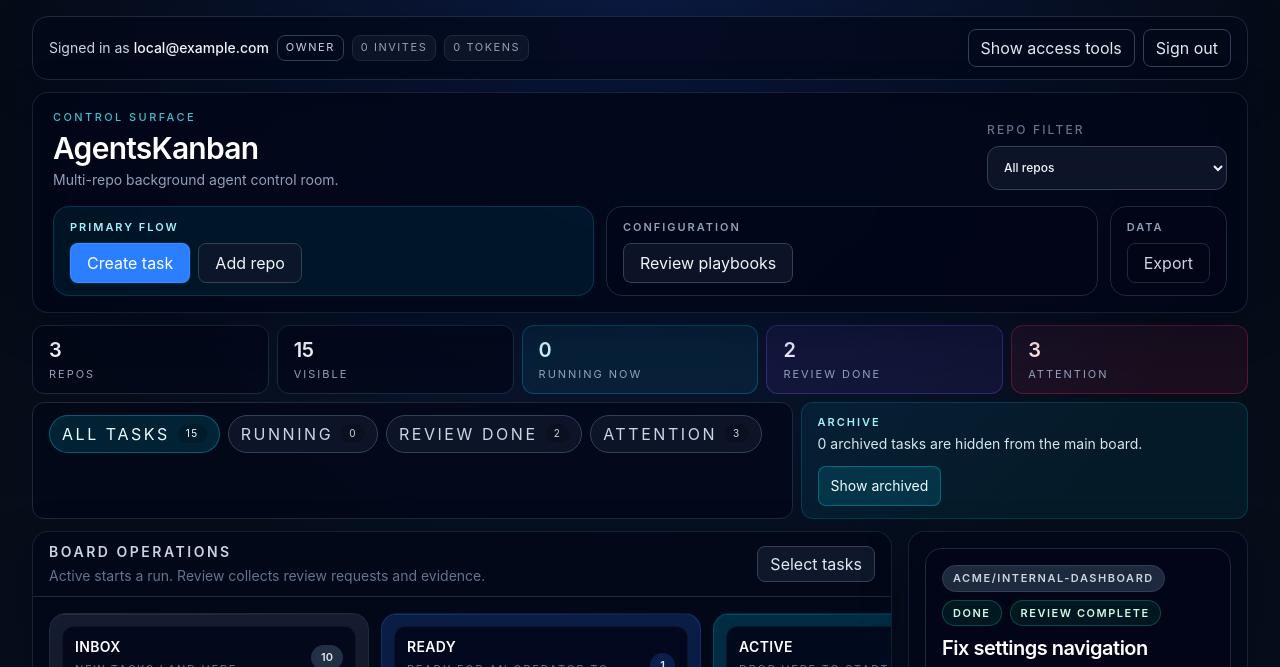
Test: App › updates repo preview adapter settings from the edit repo modal
This screenshot has width=1280, height=667.
Select "acme/site-marketing" in the dropdown labelled "Repo filter" at (1107, 168), box [987, 146, 1227, 190]
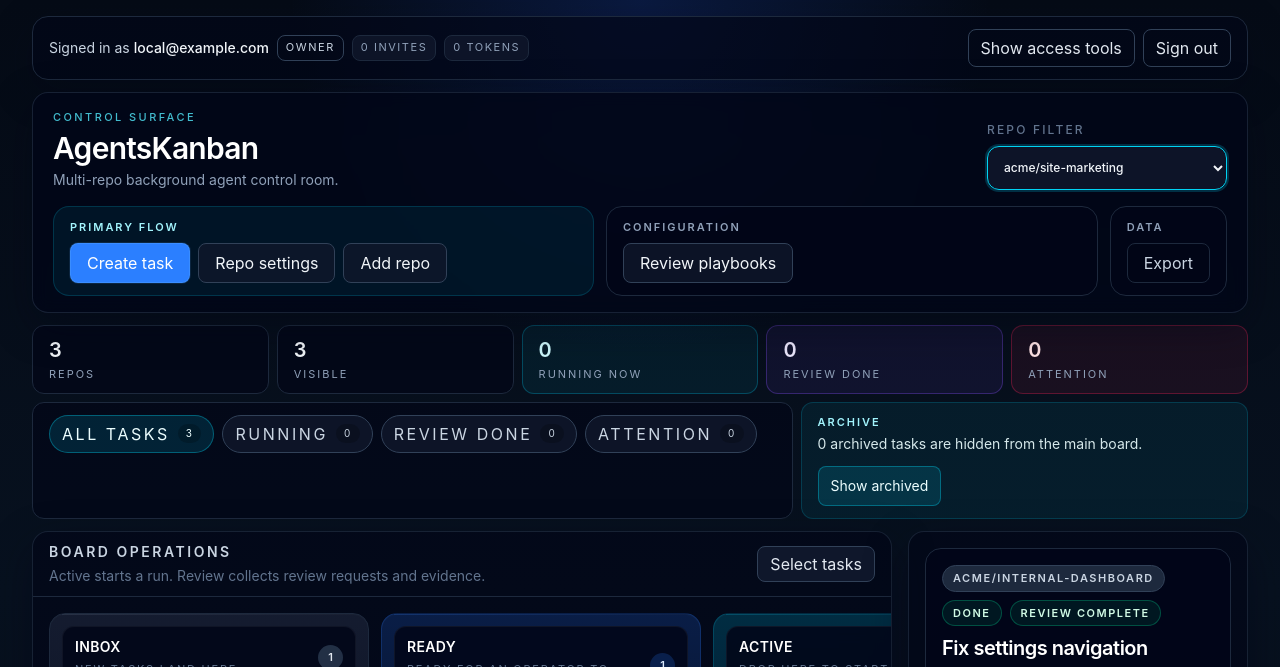
Click the button "Repo settings" at (267, 263), box [198, 243, 335, 283]
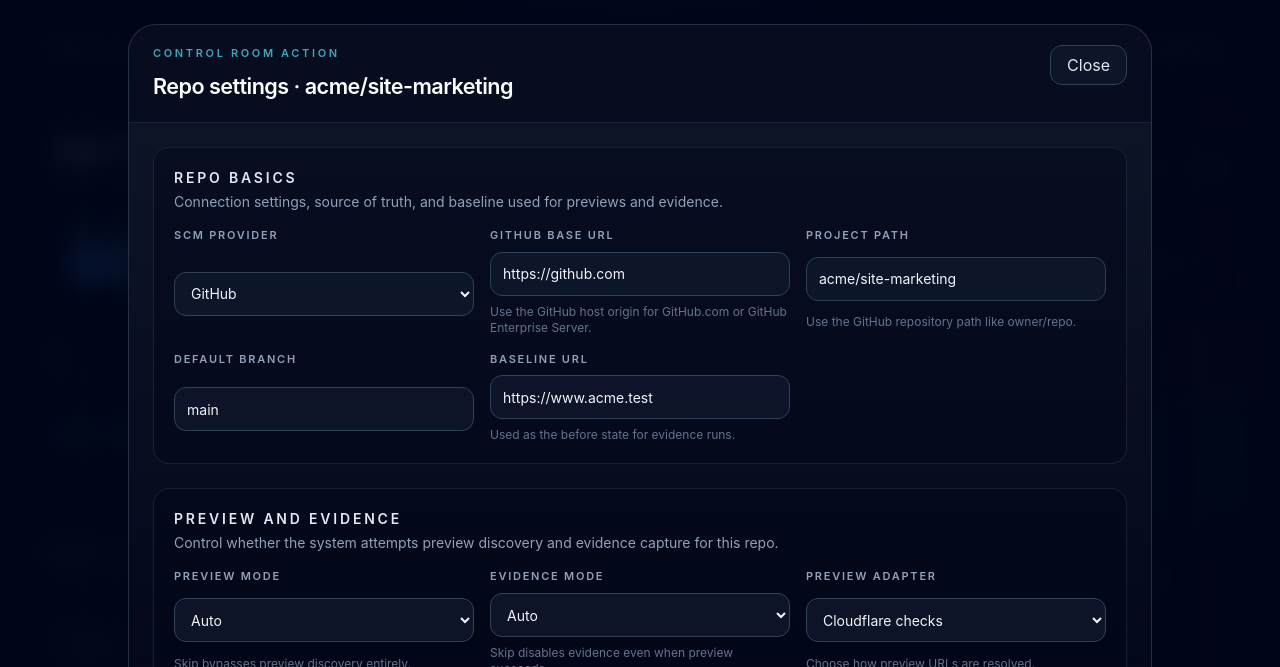
Select "Prompt recipe" in the dropdown labelled "Preview adapter Choose how preview URLs are resolved." at (956, 620), box [806, 598, 1106, 642]
(page scrolled)
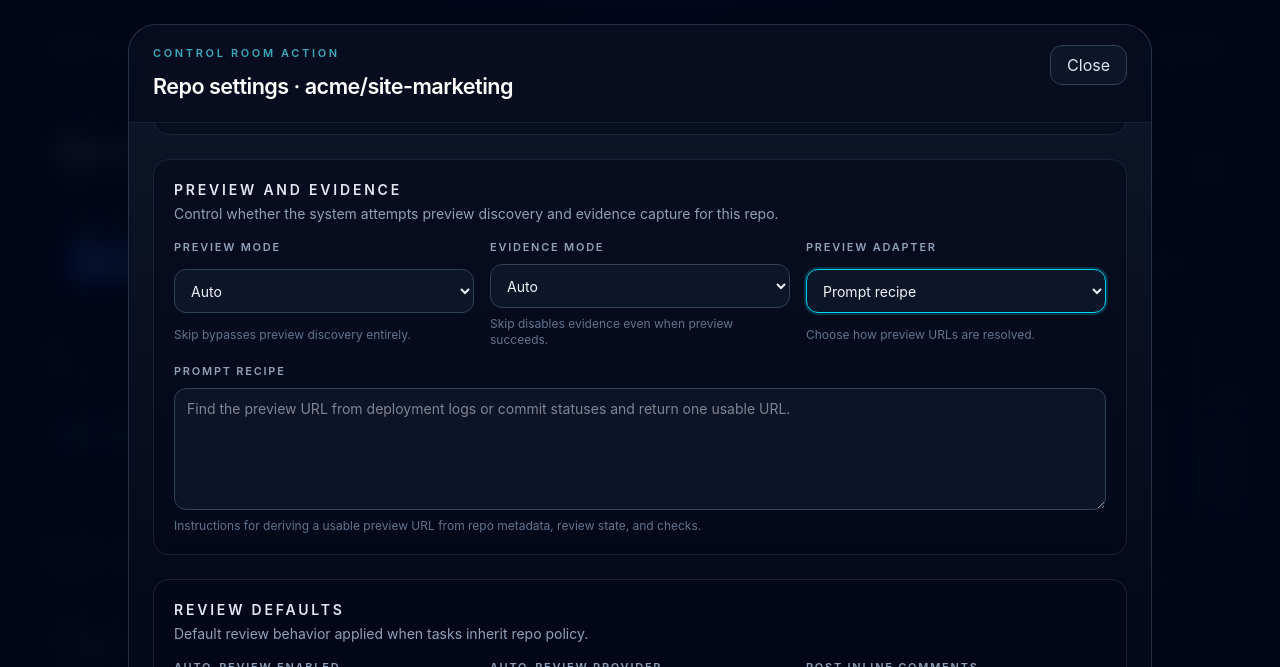
Type "Inspect CI output and return one preview URL." into the text box at (640, 449), box [174, 388, 1106, 510]
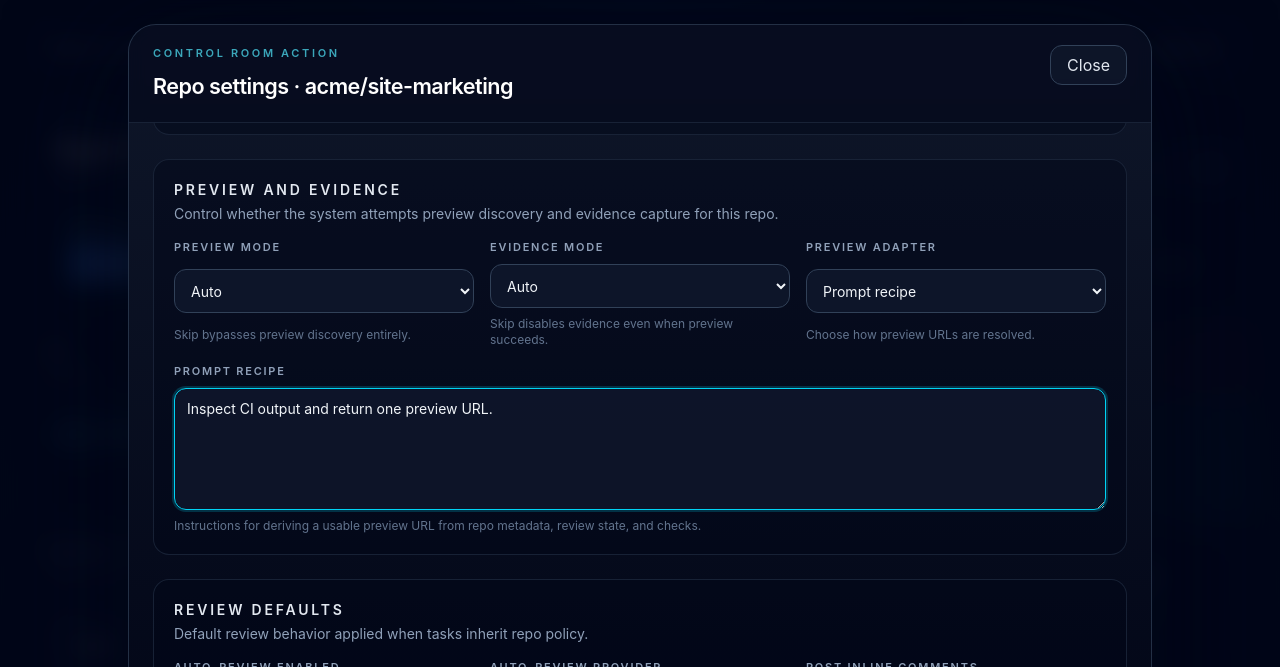
Select "Skip" in the 2nd dropdown at (640, 286), box [490, 264, 790, 308]
(page scrolled)
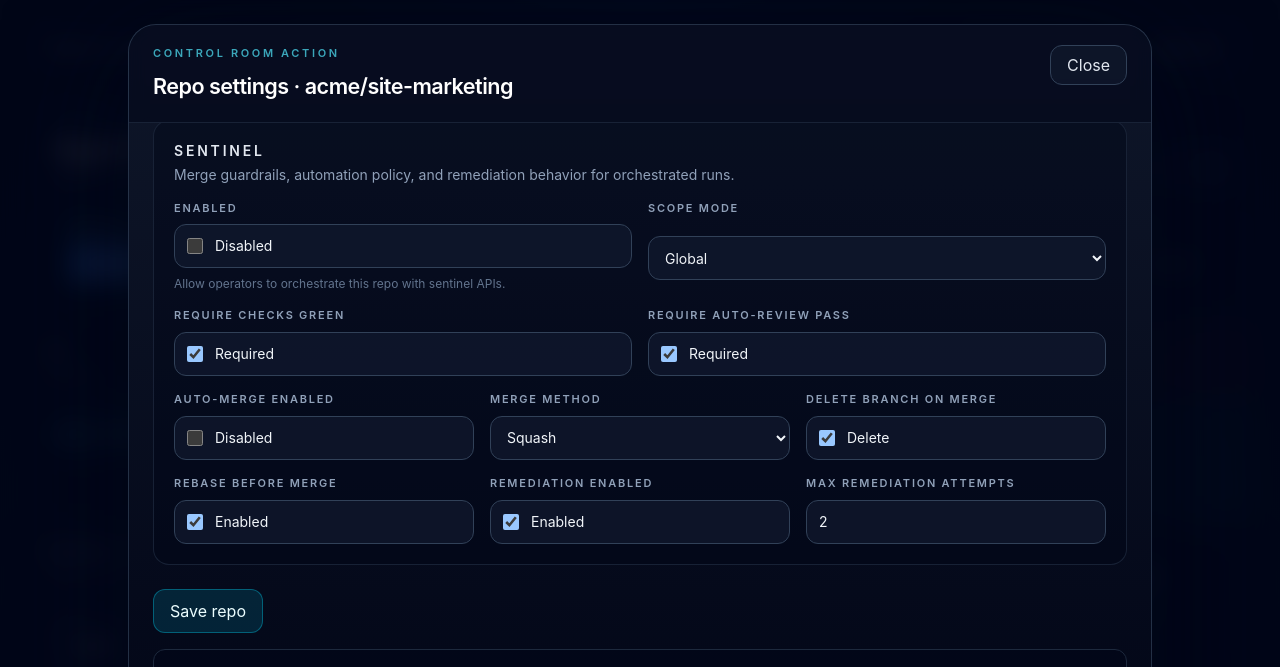
Click the button "Save repo" at (208, 610), box [153, 588, 263, 632]
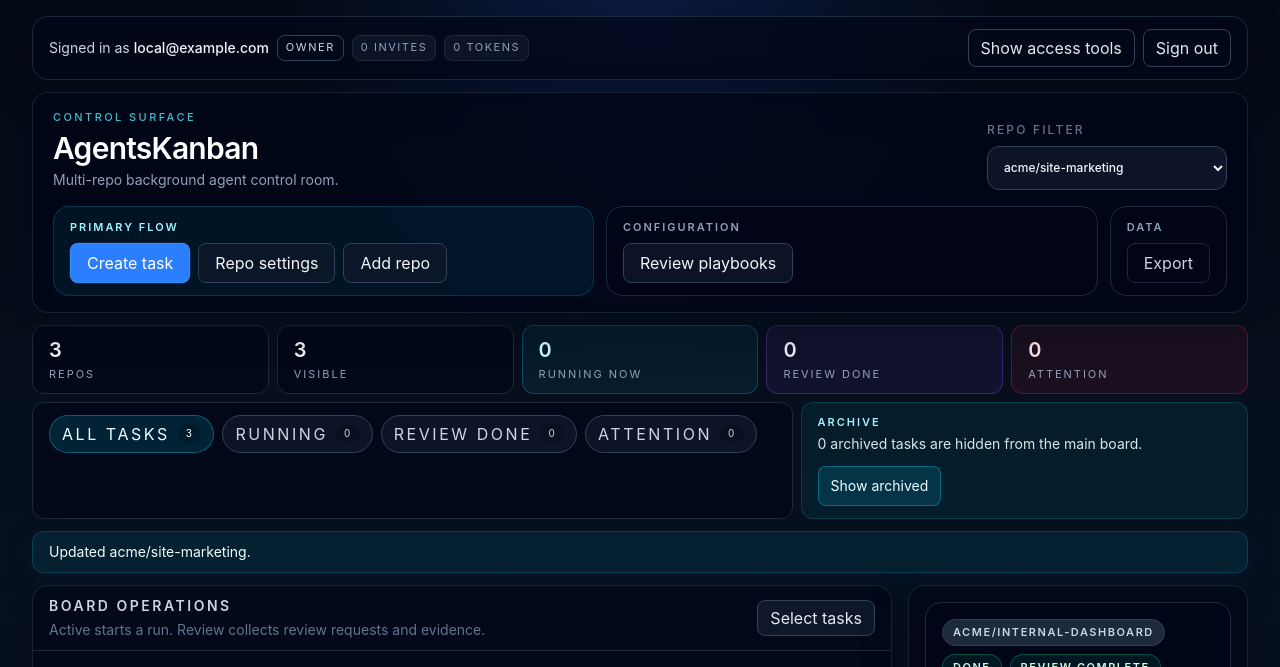
expect the text "Updated acme/site-marketing." is shown: met, box [32, 531, 1248, 573]
